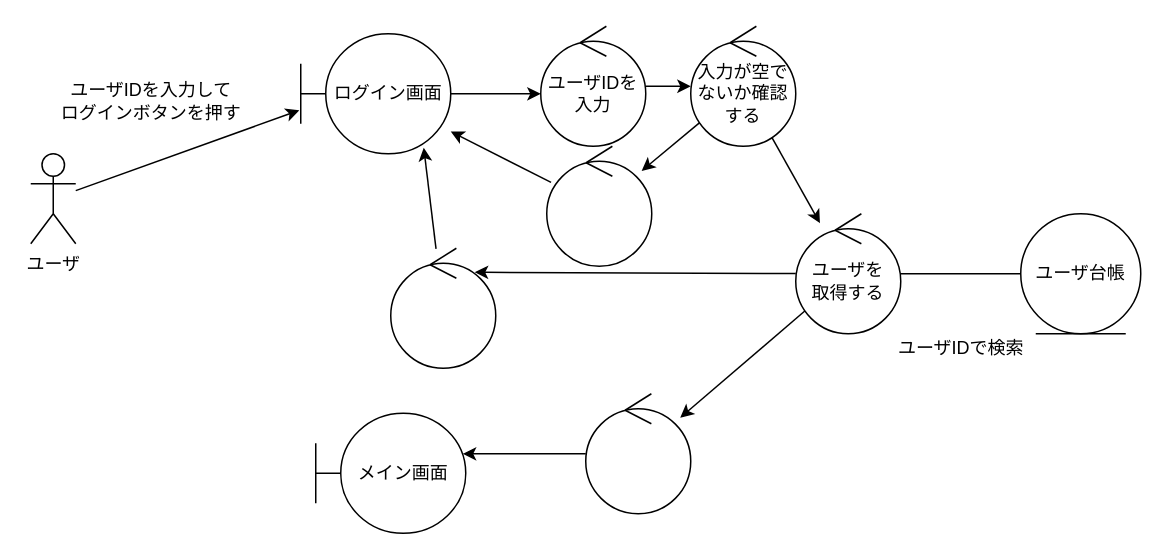
Image size: 1167x560. Some labels were removed from this diagram. Each missing label, with the centre of its shape:
メイン画面を表示する: pixel 637 453
ユーザが 存在しない エラー: pixel 442 307
入力なしエラー: pixel 598 205
